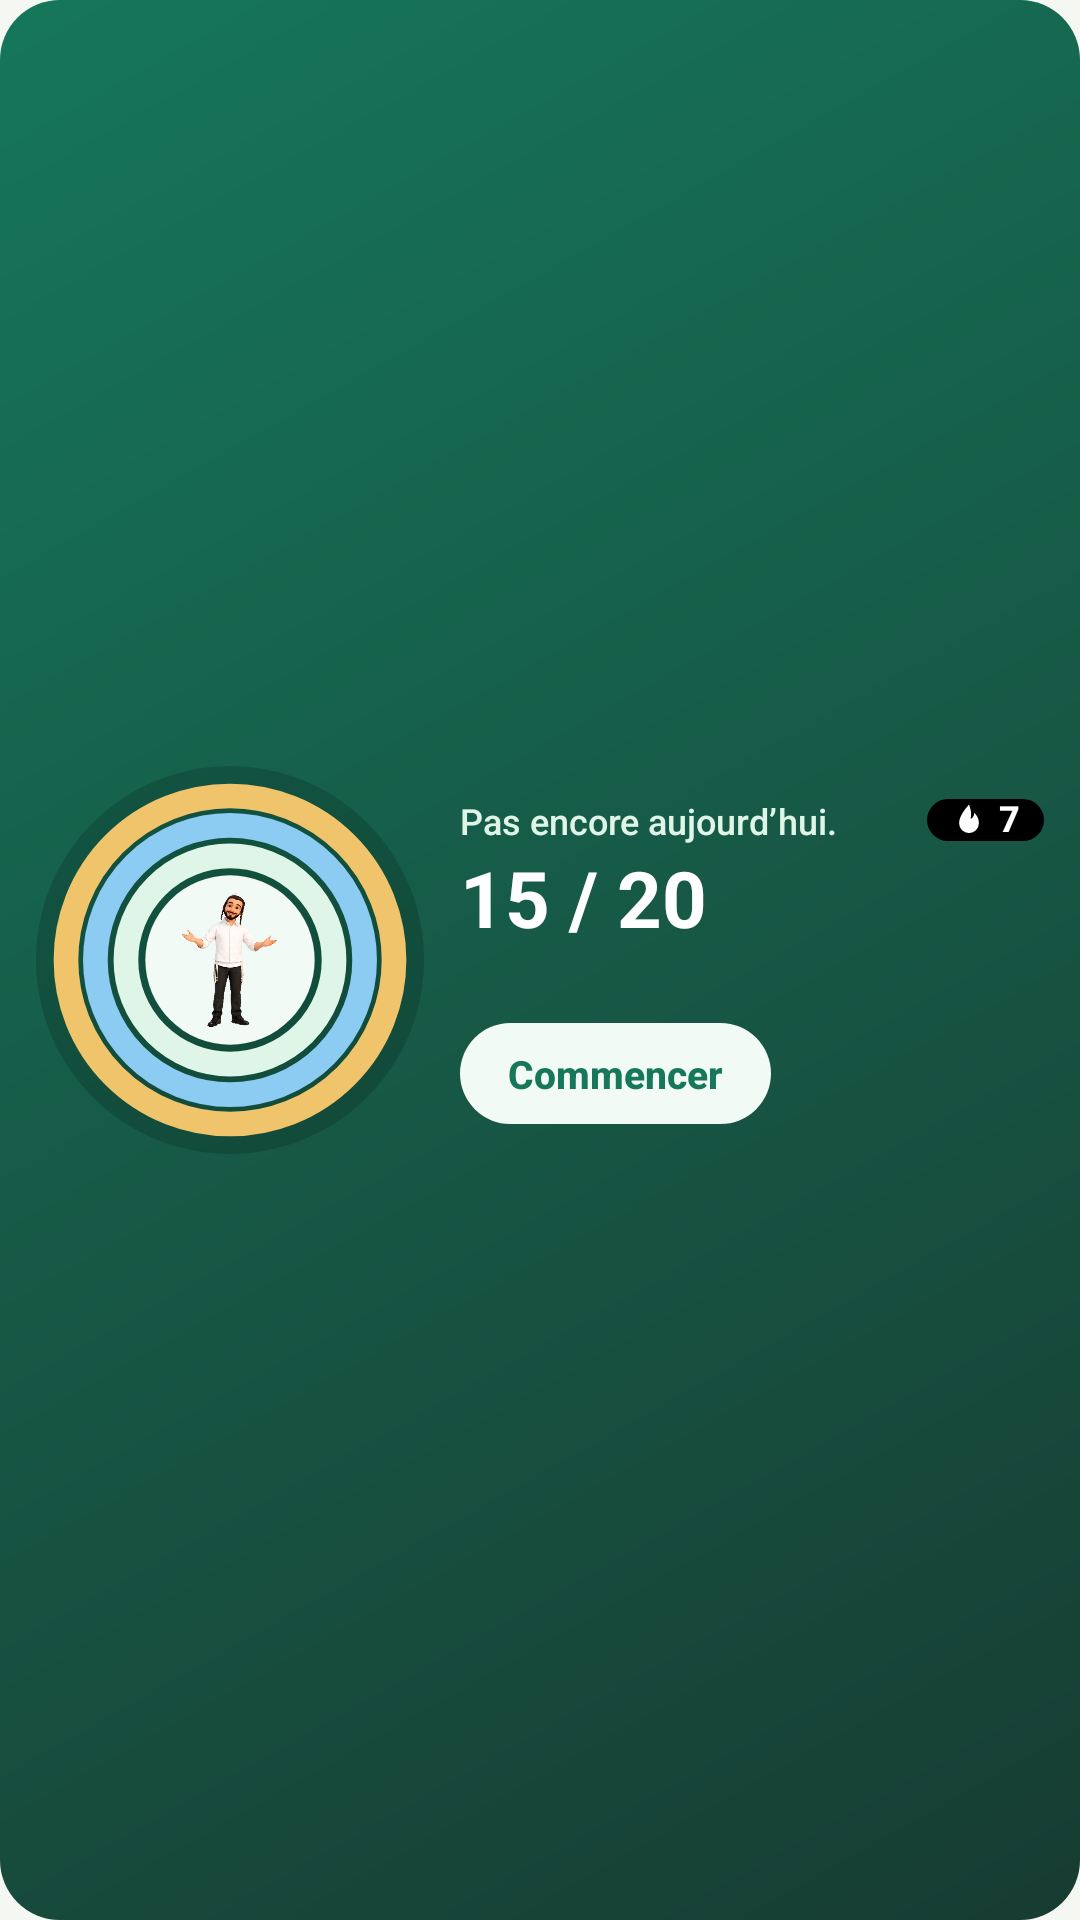

Icons on this 1080×1920 Android screen, each with the point to tap as [x,y]:
widget flame: [969,819]
